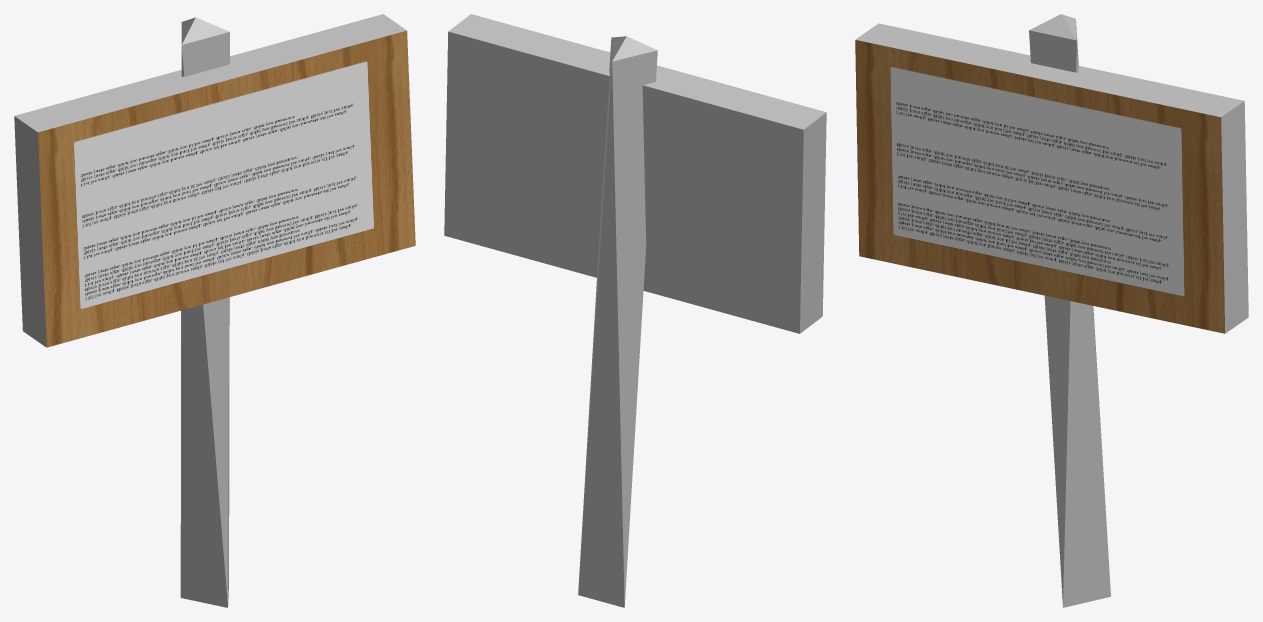
Rendered from Sign.dae.
The picture shows the model from 3 angles, left to right: view 1: azimuth 30°, elevation 25°; view 2: azimuth 150°, elevation 25°; view 3: azimuth 330°, elevation 25°; orthographic projection. The views are drawn at different scales.
Parts seen in each view (by area): view 1: sign; view 2: sign; view 3: sign.
Boxes of the visible parts, left/top/right/bottom form: sign: left=14, top=14, right=415, bottom=607; sign: left=444, top=14, right=826, bottom=607; sign: left=855, top=14, right=1248, bottom=607.
Bounding box in the file's own units: 2.28 × 0.4402 × 3.4.
